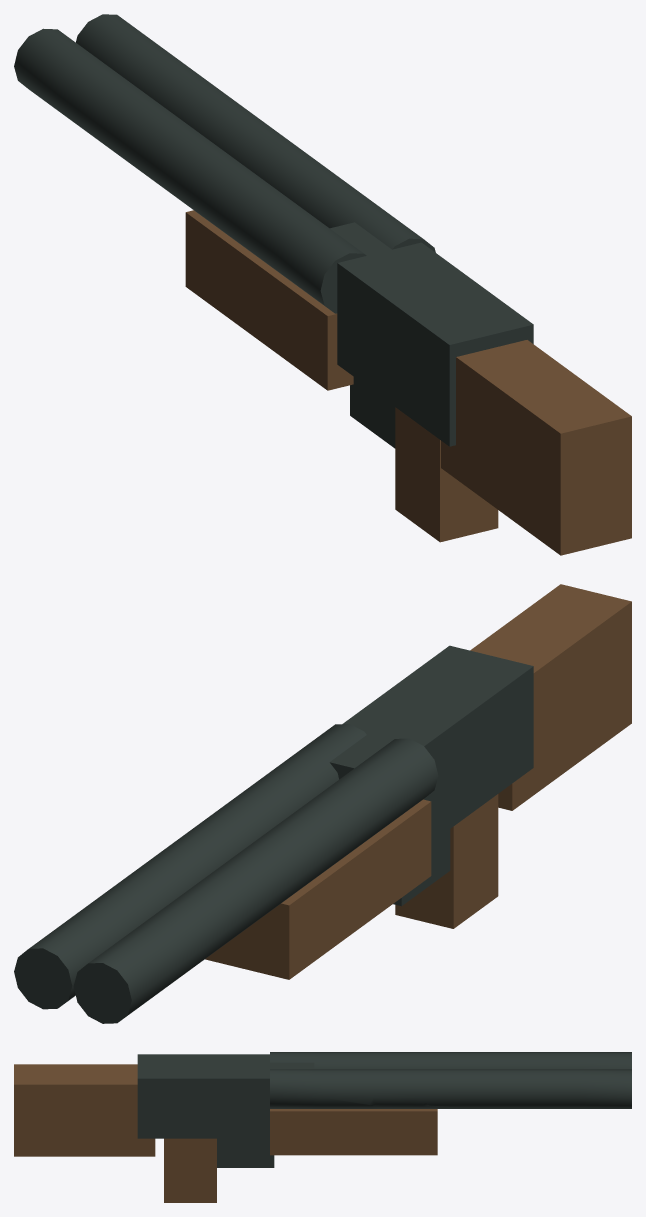
The model's file is double_barrel.glb.
The picture shows the model from 3 angles, top to bottom: view 1: azimuth 30°, elevation 25°; view 2: azimuth 150°, elevation 25°; view 3: azimuth 270°, elevation 25°; orthographic projection. The views are drawn at different scales.
Parts seen in each view (by area): view 1: Stock, Barrel, Receiver, SecondBarrel, Foregrip, Grip, TriggerGuard; view 2: Barrel, Receiver, SecondBarrel, Stock, Foregrip, Grip, TriggerGuard; view 3: SecondBarrel, Stock, Receiver, Foregrip, Barrel, Grip, TriggerGuard.
Boxes of the visible parts, x1,y1,x2,y2 form: Stock: (441,340,631,555); Barrel: (14,28,366,313); Receiver: (330,222,533,446); SecondBarrel: (76,14,435,252); Foregrip: (185,210,353,390); Grip: (395,407,498,542); TriggerGuard: (350,377,395,448); Barrel: (73,738,438,1023); Receiver: (329,645,533,842); SecondBarrel: (14,724,366,1009); Stock: (470,584,631,810); Foregrip: (205,799,431,979); Grip: (395,794,498,928); TriggerGuard: (393,829,450,906); SecondBarrel: (270,1069,631,1108); Stock: (14,1064,155,1156); Receiver: (137,1054,314,1138); Foregrip: (270,1109,437,1155); Barrel: (270,1052,631,1069); Grip: (164,1138,216,1202); TriggerGuard: (217,1138,274,1167).
Size of the model in its own units: 0.182 by 0.33 by 1.4.
